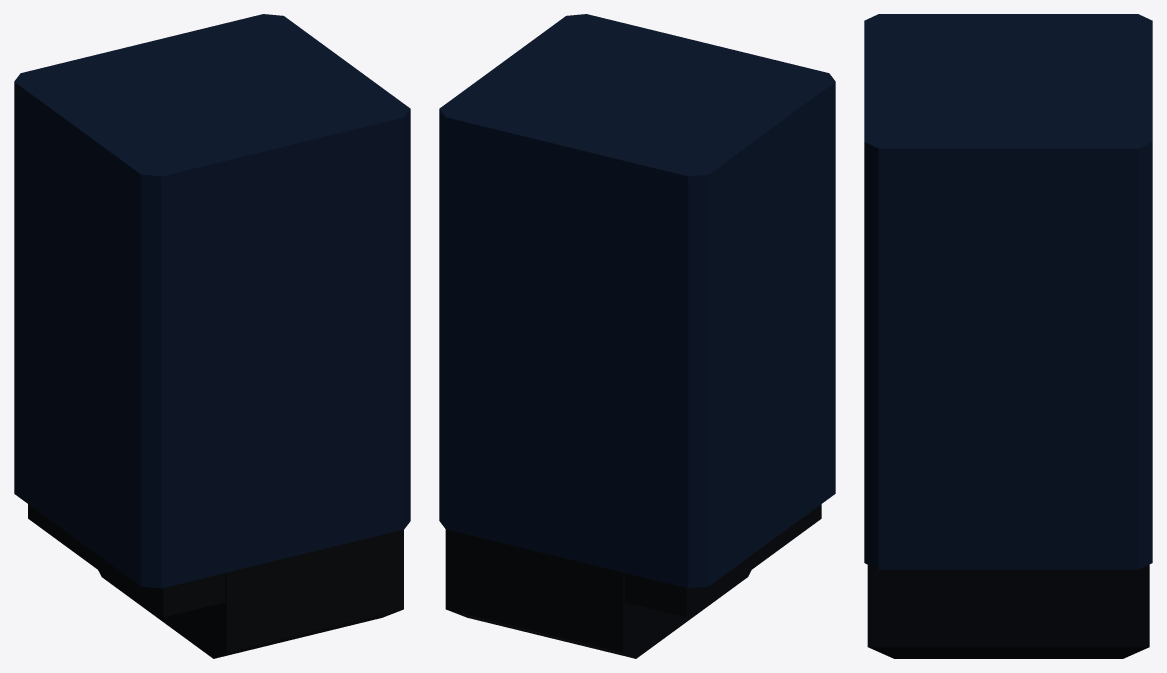
The picture shows the model from 3 angles, left to right: view 1: azimuth 30°, elevation 25°; view 2: azimuth 150°, elevation 25°; view 3: azimuth 270°, elevation 25°; orthographic projection. The views are drawn at different scales.
Parts seen in each view (by area): view 1: Meshpart3, Meshpart2, Meshpart1; view 2: Meshpart3, Meshpart2, Meshpart1; view 3: Meshpart3, Meshpart2.
Part boxes in pixels (x1,y1,x2,y2): Meshpart3: (14,14,410,588); Meshpart2: (98,529,403,658); Meshpart1: (28,504,225,617); Meshpart3: (439,14,835,588); Meshpart2: (445,529,751,658); Meshpart1: (624,504,821,617); Meshpart3: (864,14,1152,569); Meshpart2: (867,564,1149,658).
Bounding box in the file's own units: 1.16 × 2.1 × 1.05.
